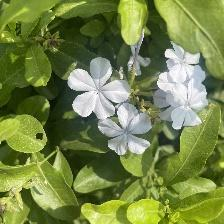chitrak: (65, 56, 130, 123), (103, 103, 153, 156), (169, 84, 208, 129), (168, 41, 198, 82)
